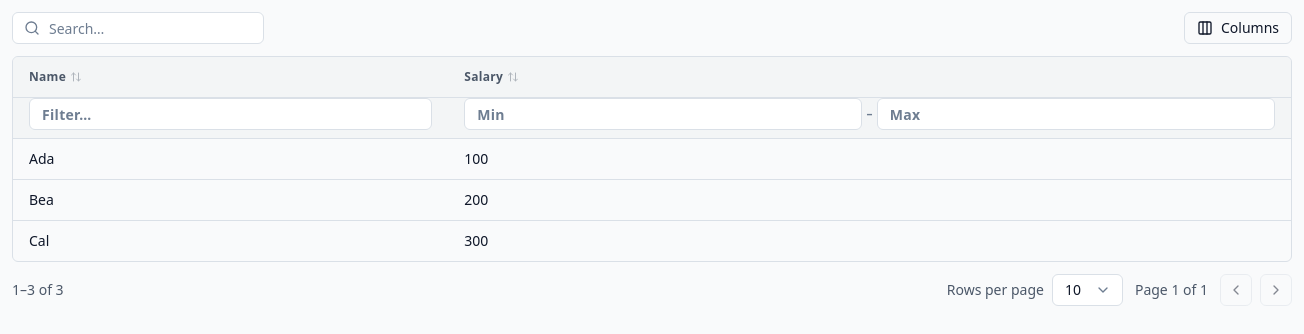
Test case: DataTable › faceted filters › range filter narrows by min/max
Step 1. Type "150" into the number field named "Min Salary" → (663, 114), box 464,98 -> 862,130
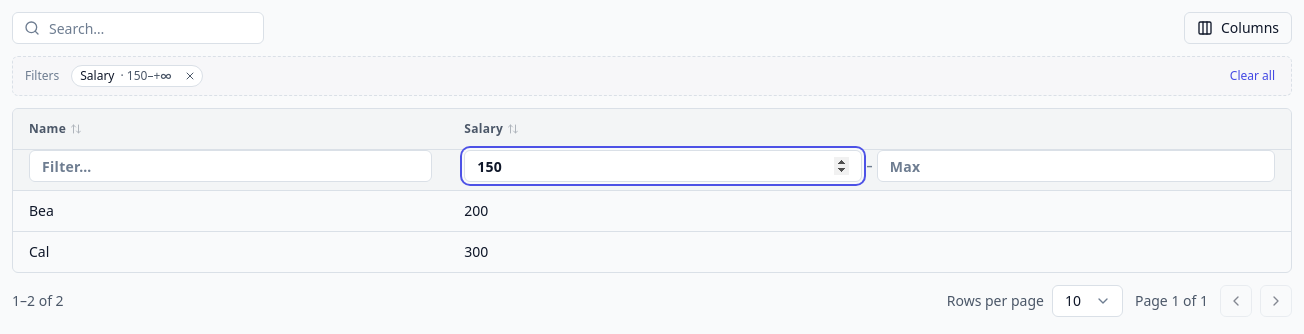
Step 2. Type "250" into the number field named "Max Salary" → (1076, 166), box 877,150 -> 1275,182
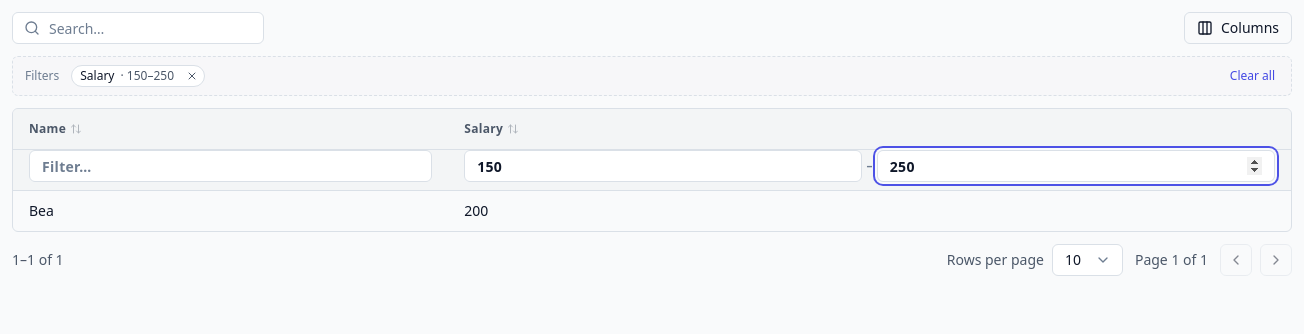
Expected: the text "Bea" is shown, 13,190 -> 448,231
Expected: the text "Cal" is gone
